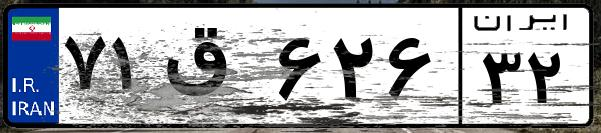1: (110, 28, 158, 98)
2: (330, 28, 385, 110), (525, 38, 570, 115)
3: (475, 38, 525, 113)
6: (270, 28, 330, 110), (385, 28, 445, 110)
7: (57, 26, 110, 100)
ق: (158, 20, 270, 120)
